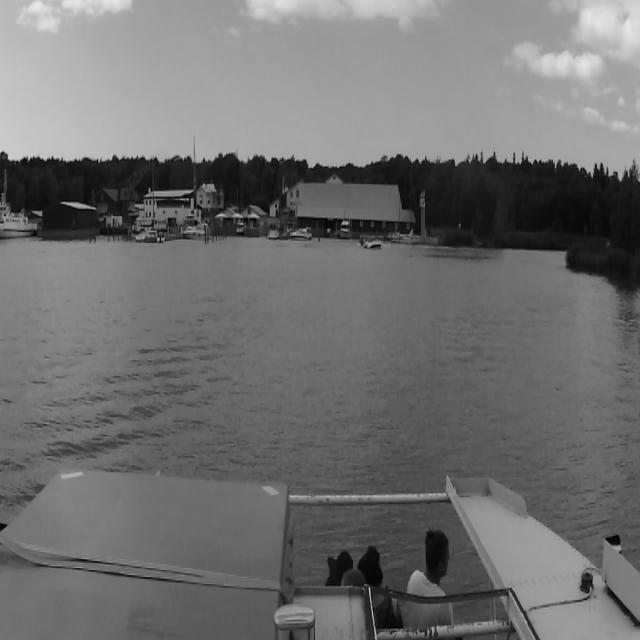buoy: (473, 234, 479, 260)
ship: (395, 190, 425, 247), (291, 226, 313, 240), (361, 237, 383, 250), (338, 220, 352, 239)
